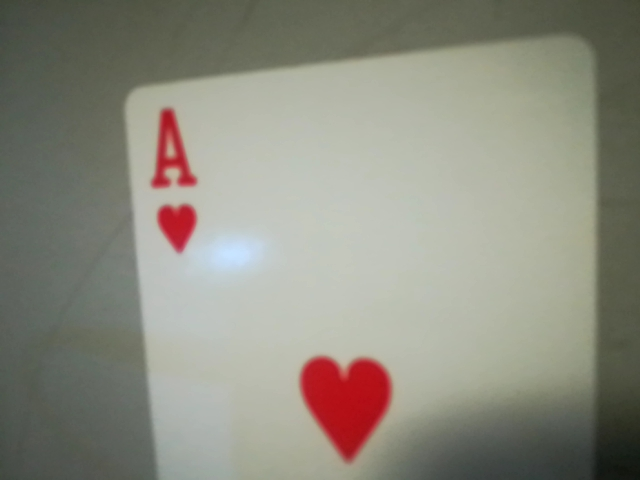hx a: (128, 90, 218, 269)
